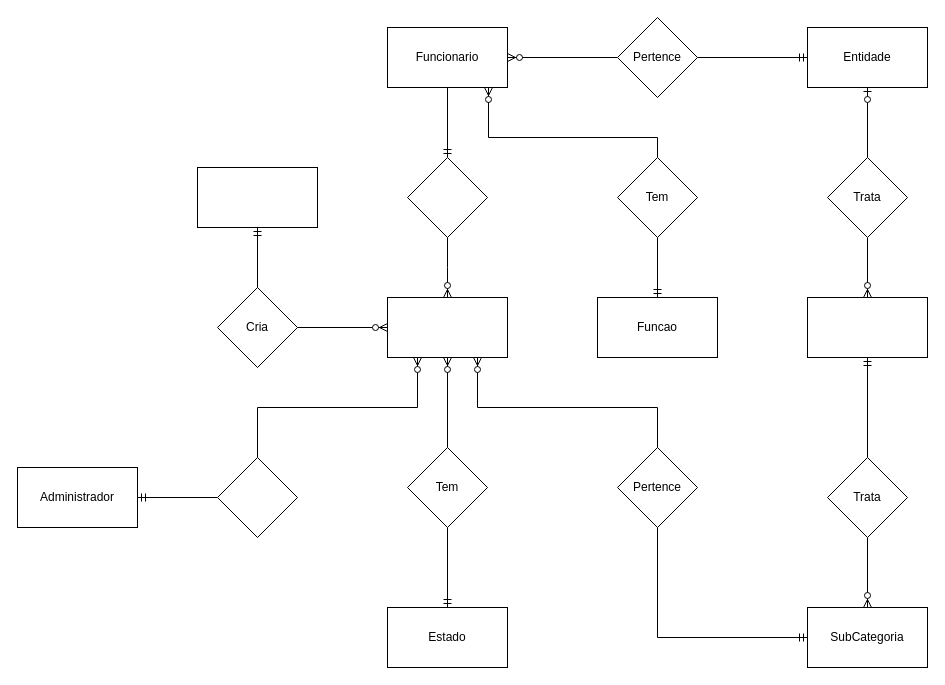
Some shapes in this 945 by 685 pixel diagram are drawn without their labels. Here are the shapes that lost their labels. From the top down, the centre of each, then its label:
point (257, 197): Utilizador
point (447, 197): Resolve
point (447, 327): Pedido
point (867, 327): Categoria
point (257, 497): Aprova
